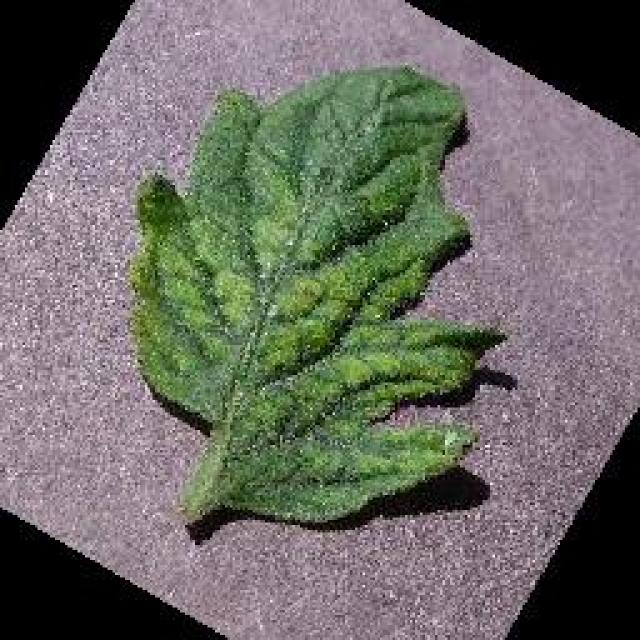Tomato___Tomato_mosaic_virus: (130, 68, 498, 520)
